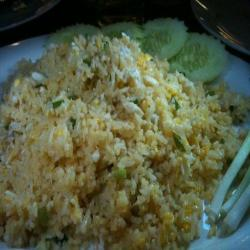rice: (1, 53, 227, 250)
